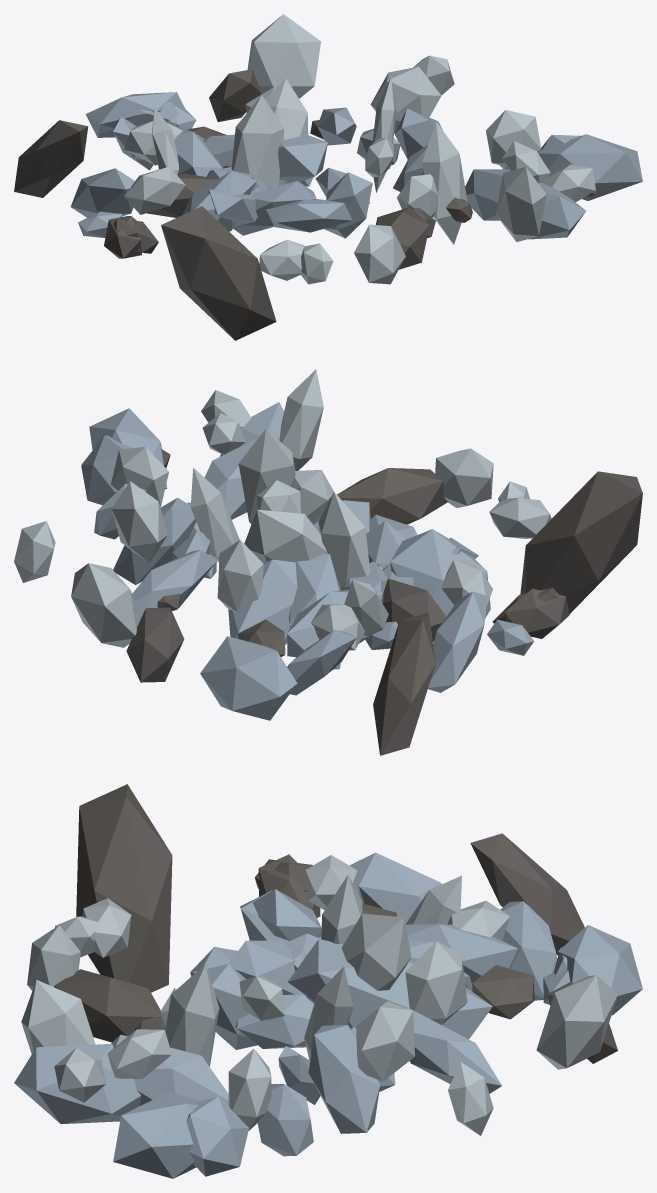
Rendered from rubble_ice_scatter.glb.
The picture shows the model from 3 angles, top to bottom: view 1: azimuth 30°, elevation 25°; view 2: azimuth 150°, elevation 25°; view 3: azimuth 270°, elevation 25°; orthographic projection. The views are drawn at different scales.
Parts seen in each view (by area): view 1: large rubble_stone_12, small chipped gravel 4, large rubble_stone_15, large rubble_stone_38, small chipped gravel 0, small chipped gravel 8, small chipped gravel 2, large rubble_stone_25, small chipped gravel 9, large rubble_stone_11, small chipped gravel 18, large rubble_stone_10 (+35 smaller); view 2: large rubble_stone_12, large rubble_stone_15, large rubble_stone_05, small chipped gravel 4, large rubble_stone_03, large rubble_stone_25, large rubble_stone_40, small chipped gravel 12, large rubble_stone_06, small chipped gravel 0, large rubble_stone_10, small chipped gravel 18 (+33 smaller); view 3: large rubble_stone_12, large rubble_stone_15, large rubble_stone_43, large rubble_stone_38, large rubble_stone_13, large rubble_stone_10, small chipped gravel 4, large rubble_stone_03, small chipped gravel 12, large rubble_stone_05, small chipped gravel 13, small chipped gravel 18 (+33 smaller).
Boxes of the visible parts, x1,y1,x2,y2 form: large rubble_stone_12: (161, 206, 276, 340); small chipped gravel 4: (247, 14, 320, 98); large rubble_stone_15: (14, 120, 88, 197); large rubble_stone_38: (537, 134, 642, 200); small chipped gravel 0: (231, 95, 284, 189); small chipped gravel 8: (422, 122, 467, 244); small chipped gravel 2: (495, 167, 546, 241); large rubble_stone_25: (70, 168, 134, 217); small chipped gravel 9: (354, 224, 405, 284); large rubble_stone_11: (266, 199, 352, 232); small chipped gravel 18: (370, 66, 441, 133); large rubble_stone_10: (278, 134, 327, 182); large rubble_stone_12: (520, 471, 642, 614); large rubble_stone_15: (373, 612, 435, 755); large rubble_stone_05: (200, 636, 297, 720); small chipped gravel 4: (71, 563, 141, 647); large rubble_stone_03: (337, 468, 447, 524); large rubble_stone_25: (428, 591, 487, 692); large rubble_stone_40: (390, 529, 490, 617); small chipped gravel 12: (244, 509, 327, 562); large rubble_stone_06: (126, 607, 184, 682); small chipped gravel 0: (318, 492, 370, 587); large rubble_stone_10: (228, 528, 319, 644); small chipped gravel 18: (111, 481, 167, 562); large rubble_stone_12: (76, 784, 172, 992); large rubble_stone_15: (470, 833, 584, 955); large rubble_stone_43: (14, 1044, 141, 1124); large rubble_stone_38: (113, 1092, 200, 1178); large rubble_stone_13: (308, 1025, 380, 1133); large rubble_stone_10: (288, 939, 492, 1039); small chipped gravel 4: (536, 975, 617, 1069); large rubble_stone_03: (54, 969, 160, 1042); small chipped gravel 12: (341, 913, 411, 990); large rubble_stone_05: (558, 925, 642, 1015); small chipped gravel 13: (405, 941, 467, 1024); small chipped gravel 18: (356, 1001, 414, 1081).
Size of the model in its own units: 3.38 by 1.01 by 3.02.
